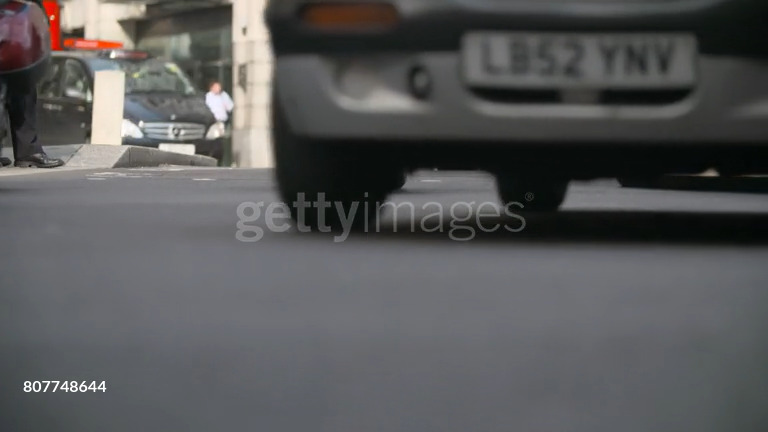car number: (466, 30, 691, 84)
